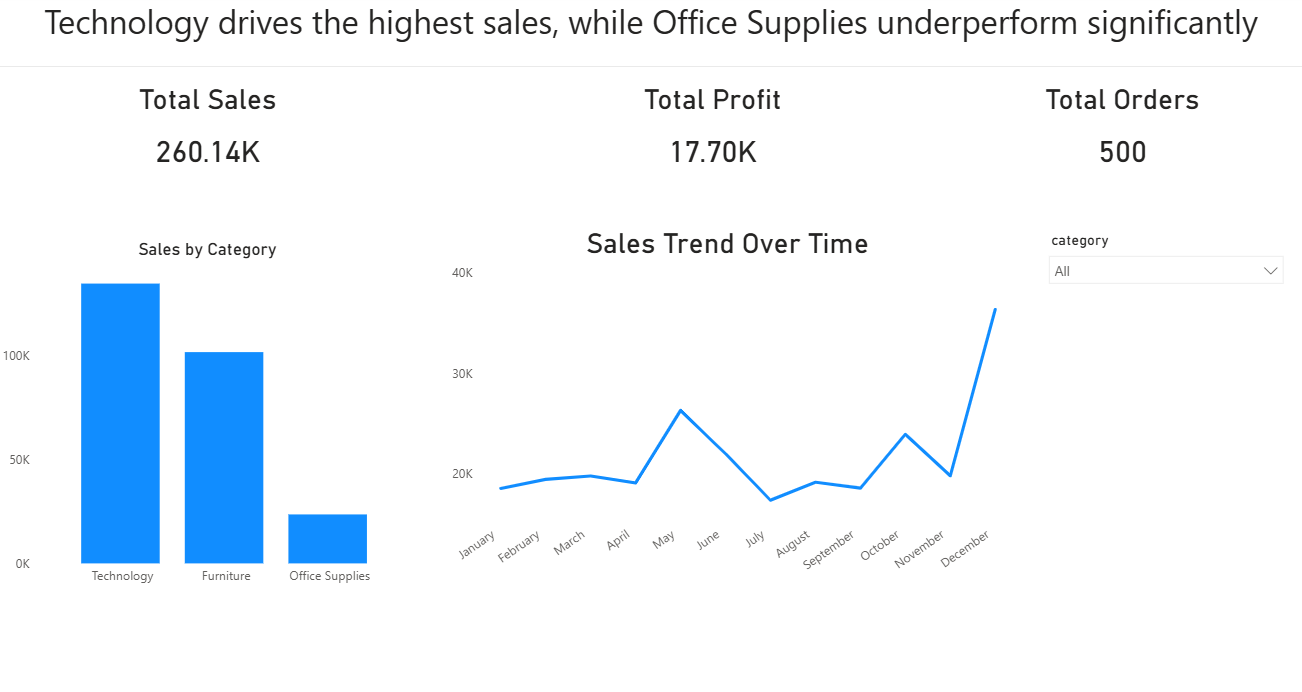

This screenshot's page, from the dashboard's own definition file:
{"tool":"powerbi","page":{"name":"Page 1","canvas":[1280,720],"ordinal":0},"visuals":[{"type":"card","title":"Total Sales","fields":{"Values":["Sum(public sales_cleaned.sales)"]},"box":[128.7,86.2,155.8,100.4],"z":0},{"type":"card","title":"Total Profit","fields":{"Values":["Sum(public sales_cleaned.profit)"]},"box":[624.3,86.2,150.6,100.4],"z":1000},{"type":"card","title":"Total Orders","fields":{"Values":["CountNonNull(public sales_cleaned.order_id)"]},"box":[1018.2,86.2,164.8,100.4],"z":2000},{"type":"clusteredColumnChart","title":"Sales by Category","fields":{"Category":["public sales_cleaned.category"],"Y":["Sum(public sales_cleaned.sales)"]},"box":[0,239.4,411.9,347.5],"z":3000},{"type":"lineChart","title":"Sales Trend Over Time","fields":{"Y":["Sum(public sales_cleaned.sales)"],"Category":["public sales_cleaned.order_date.Variation.Date Hierarchy.Month"]},"box":[429.9,227.8,569,359.1],"z":4000},{"type":"slicer","fields":{"Values":["public sales_cleaned.category"]},"box":[1018.2,227.8,249.7,327],"z":5000},{"type":"textbox","box":[0,0,1279.5,70.8],"z":6000}]}

Visuals, with their boxes on the page's 1280x720 design canvas (x1, y1, x2, y2). These are canvas units, not pixel positions in the 1302x692 screenshot, which may show the page scaled, cropped or inside an application window:
"Total Sales" card: [left=129, top=86, right=284, bottom=187]
"Total Profit" card: [left=624, top=86, right=775, bottom=187]
"Total Orders" card: [left=1018, top=86, right=1183, bottom=187]
"Sales by Category" clusteredColumnChart: [left=0, top=239, right=412, bottom=587]
"Sales Trend Over Time" lineChart: [left=430, top=228, right=999, bottom=587]
slicer - public sales_cleaned.category: [left=1018, top=228, right=1268, bottom=555]
textbox: [left=0, top=0, right=1280, bottom=71]
